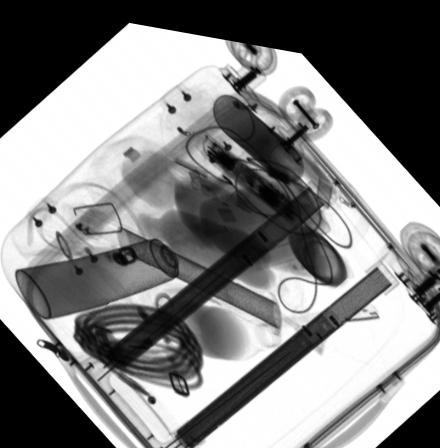Sprayer: (15, 223, 202, 317)
